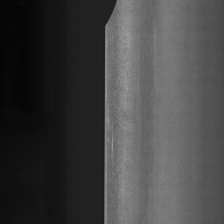crescent_gap: (99, 0, 123, 30)
